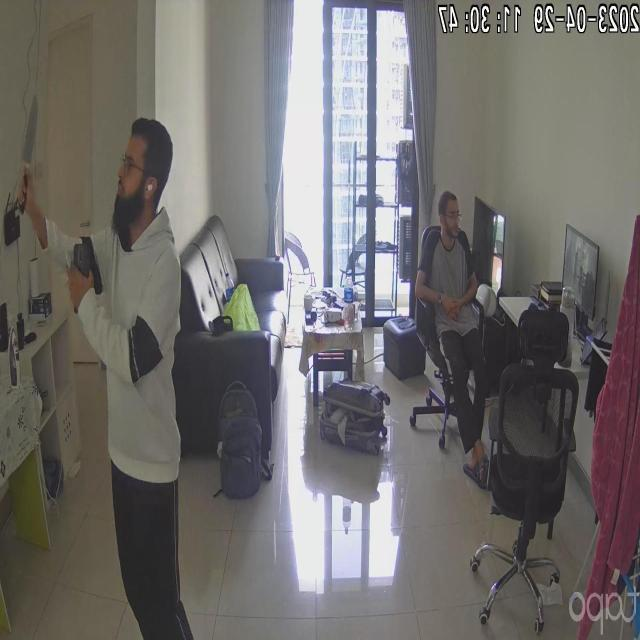Knife: (8, 90, 51, 197)
